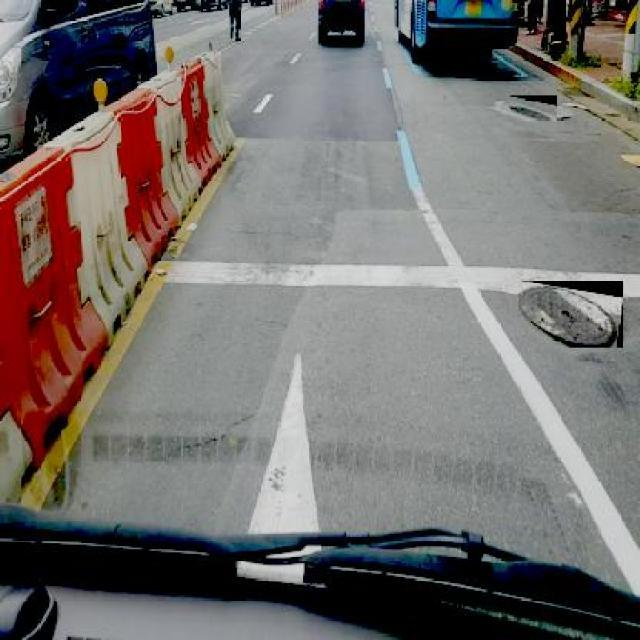Manhole: (519, 280, 624, 348), (501, 100, 552, 126)
Pothole: (128, 411, 274, 472)
